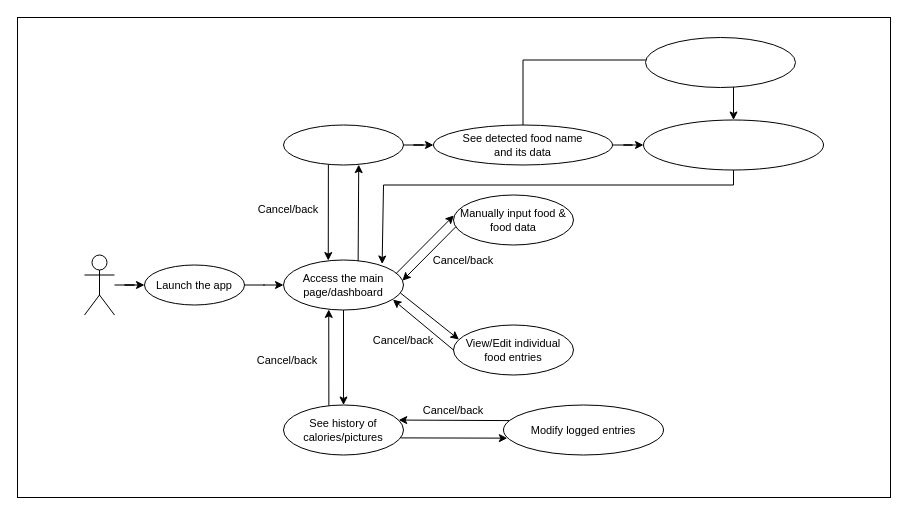
The diagram is 908 pixels wide and 515 high, and some of its shapes have lost their labels. Here are the shapes that lost their labels. From the top down, the centre of each, then its label:
At (720,62): "Manually food name and/or data".
At (343,144): "Take/upload picture of food".
At (733,144): "Log food + data consumed today".
At (99,284): "User".
